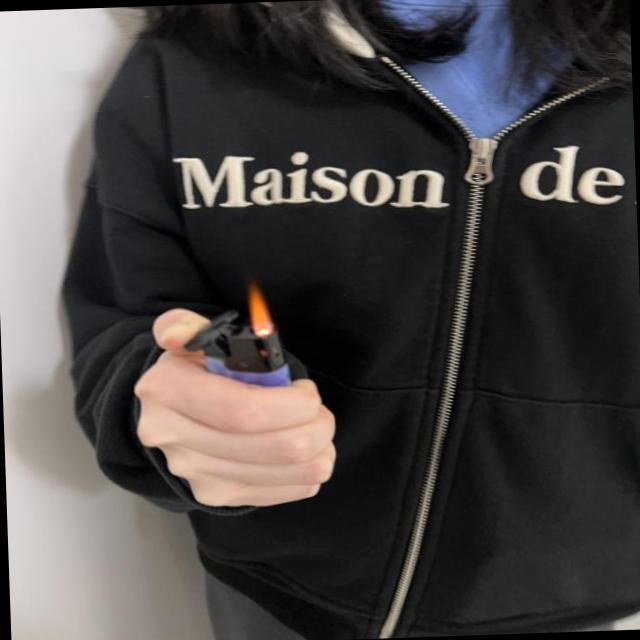Fire: (245, 282, 276, 336)
